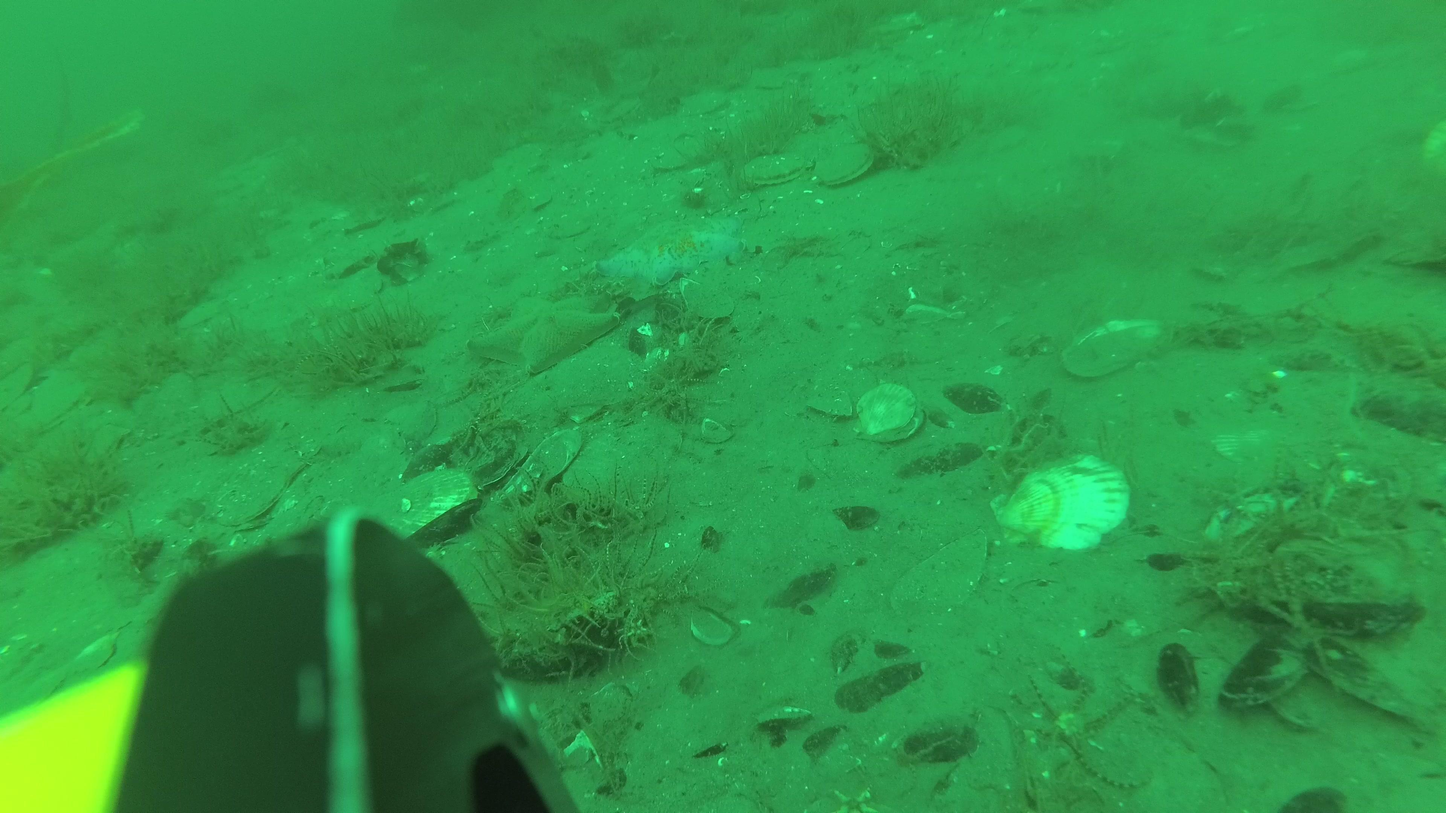holothurian: (471, 293, 624, 375), (600, 212, 752, 288)
scallop: (987, 455, 1133, 554), (367, 472, 482, 542), (1060, 319, 1161, 378), (215, 463, 288, 530), (858, 387, 926, 439), (814, 140, 877, 188), (736, 157, 809, 187)
